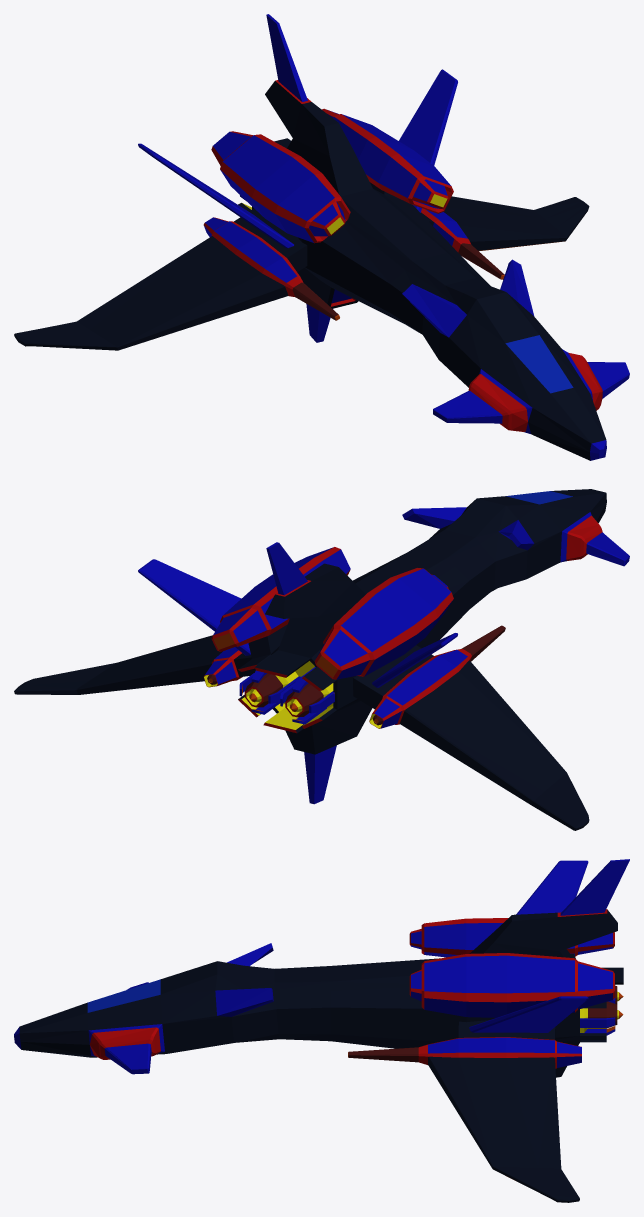
Rendered from ship_2.obj.
3 views of the same model, one above another, from view 1: azimuth 30°, elevation 25°; view 2: azimuth 150°, elevation 25°; view 3: azimuth 270°, elevation 25° (orthographic). The views are drawn at different scales.
Visible parts, largest first — view 1: spacecraft_spacecraft.001; view 2: spacecraft_spacecraft.001; view 3: spacecraft_spacecraft.001.
Part boxes in pixels (box(x1,y1,x2,y2)): spacecraft_spacecraft.001: box(14, 14, 629, 460); spacecraft_spacecraft.001: box(14, 489, 629, 830); spacecraft_spacecraft.001: box(14, 859, 629, 1202).
Bounding box in the file's own units: 5.51 × 2.69 × 5.64.
